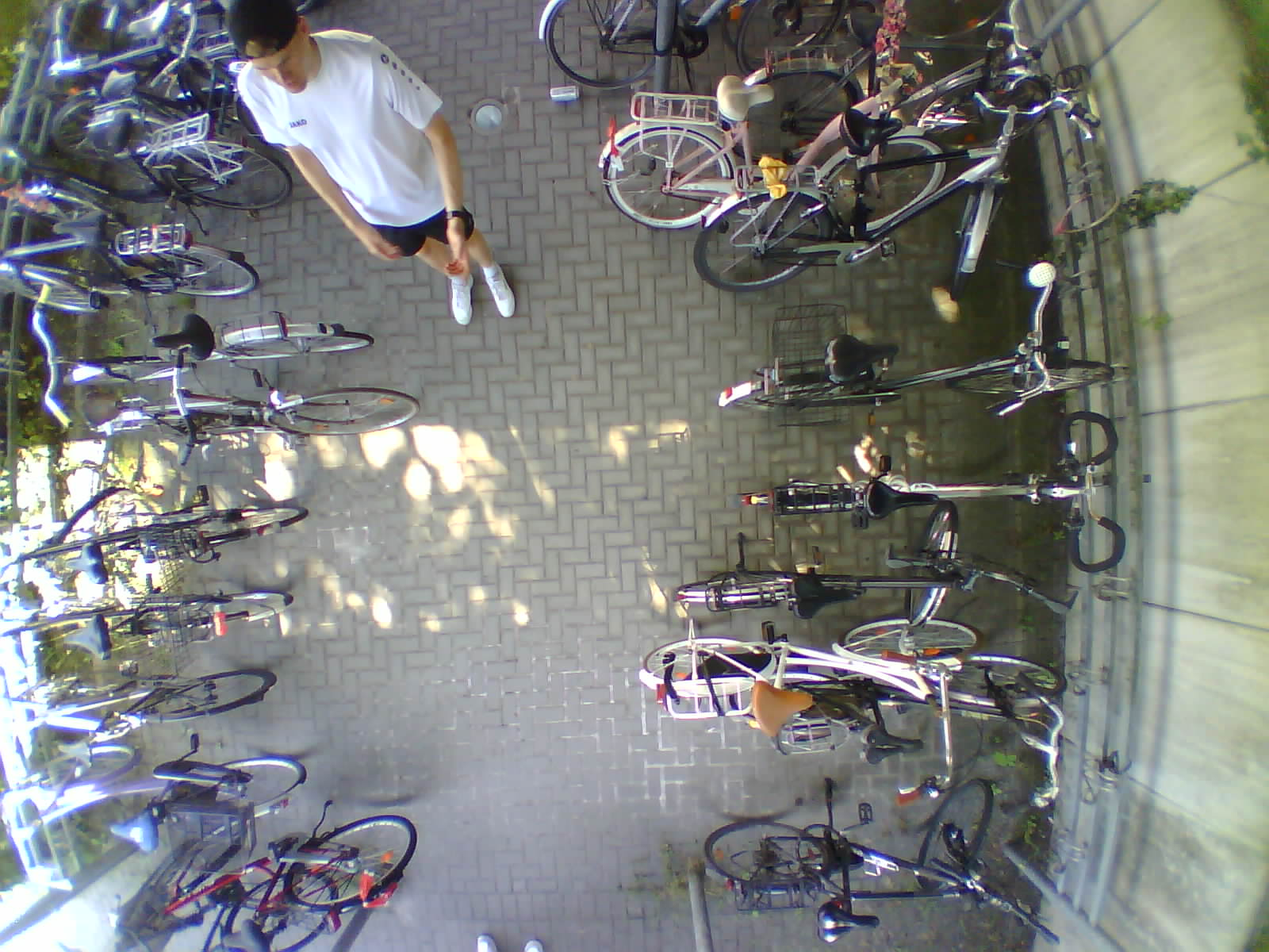bicylce: (693, 102, 1036, 296), (601, 83, 943, 233), (726, 27, 1054, 175), (702, 782, 995, 927), (638, 616, 974, 726), (124, 811, 417, 937), (675, 504, 980, 624), (720, 336, 1111, 428), (734, 656, 1067, 756), (17, 743, 309, 849), (0, 115, 292, 217), (48, 313, 375, 393), (27, 491, 312, 579), (78, 383, 417, 453), (10, 668, 277, 756), (109, 850, 341, 951), (734, 464, 1096, 528), (6, 582, 296, 660), (1, 214, 257, 302), (53, 56, 247, 151), (49, 29, 236, 113)
saddle: (826, 335, 901, 386), (753, 680, 813, 737), (841, 107, 901, 159), (796, 575, 859, 622), (815, 907, 880, 950), (718, 77, 776, 124), (867, 481, 939, 518), (150, 316, 213, 358), (863, 726, 923, 769), (62, 616, 110, 660), (64, 542, 110, 586), (54, 210, 109, 246), (111, 813, 158, 855), (81, 386, 127, 427), (89, 114, 132, 153), (124, 4, 173, 38), (220, 919, 270, 952), (844, 12, 891, 45), (56, 744, 94, 769), (103, 73, 142, 97)
